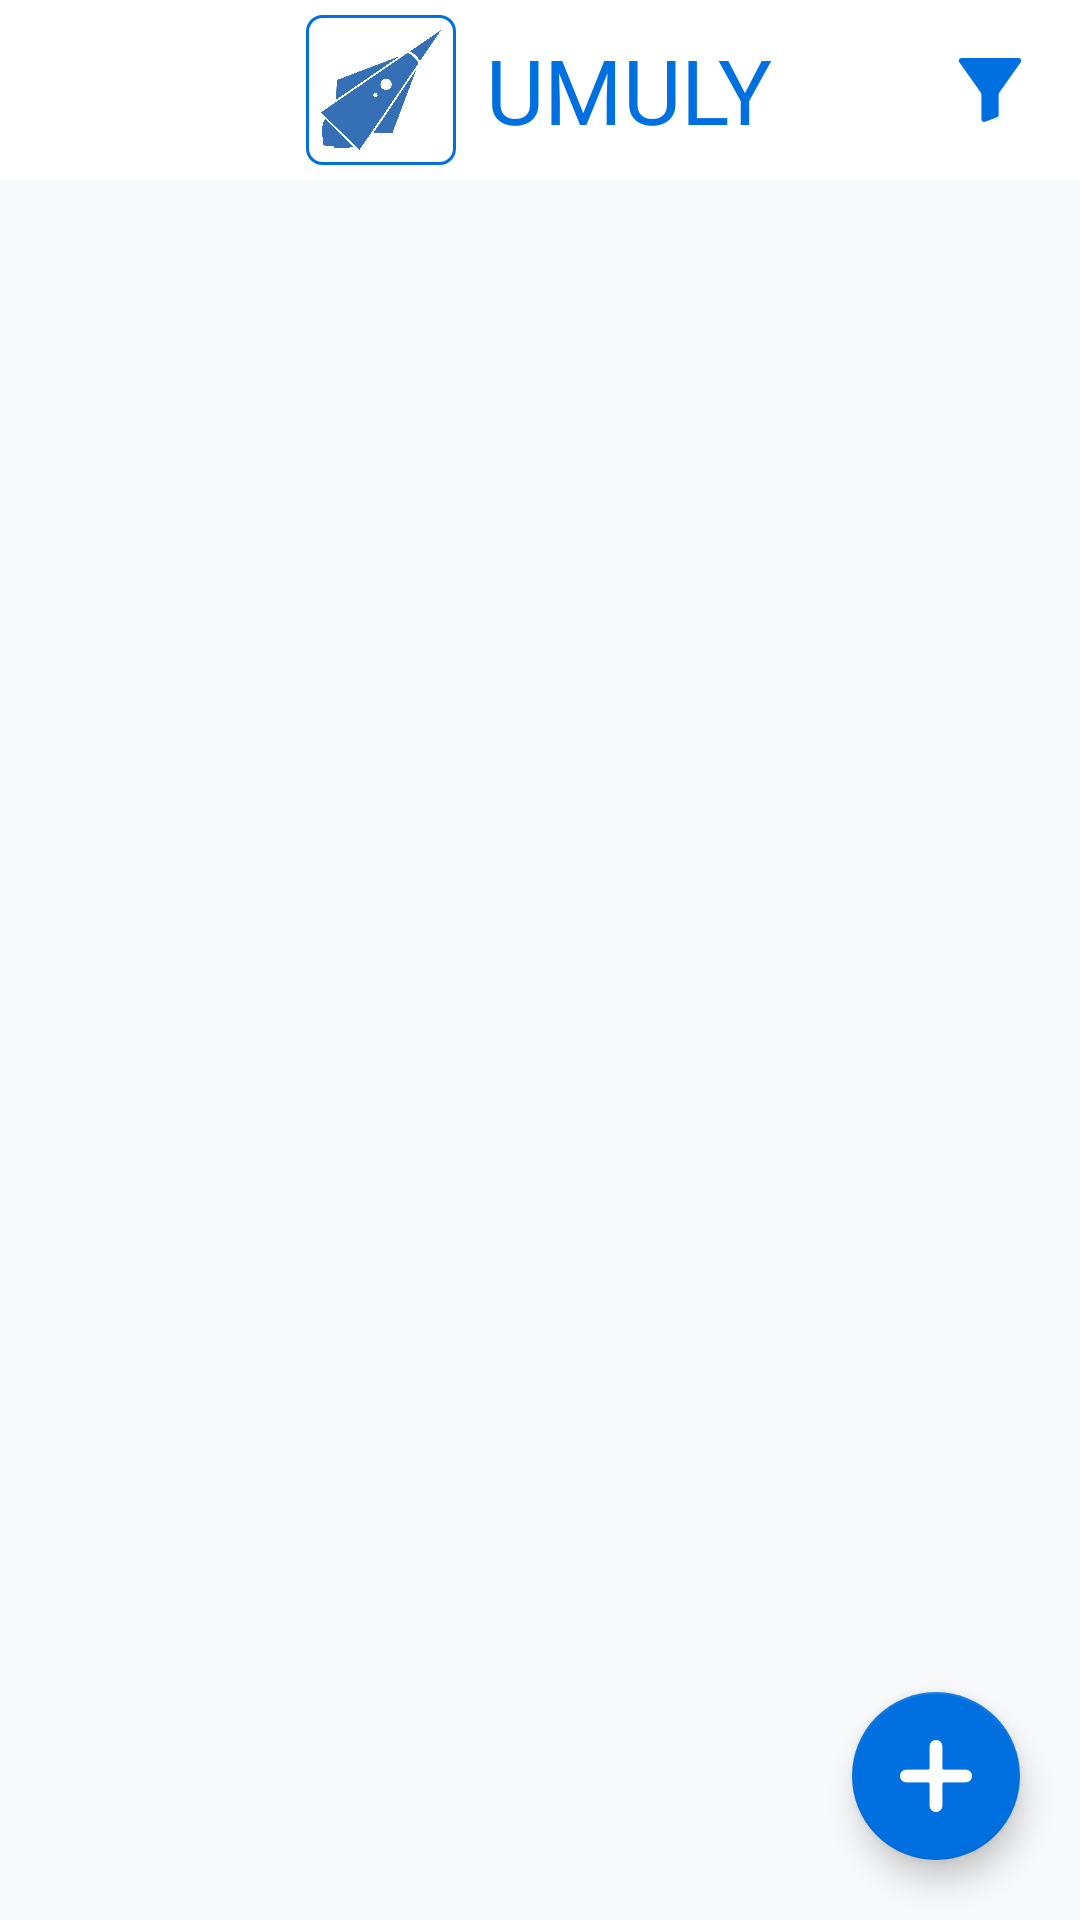

Icon click points for this 1080px×1920px phone screenshot, format (x=x, y=y):
filter: (x=990, y=90)
plus: (x=936, y=1776)
